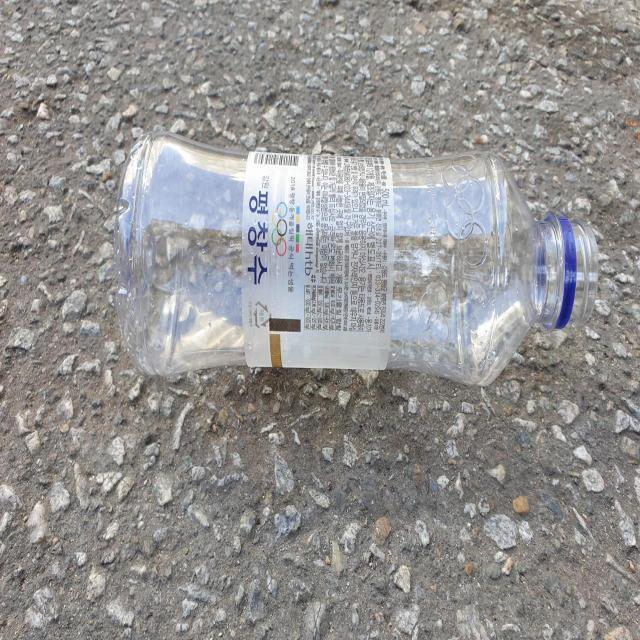plastic: (114, 131, 599, 385)
